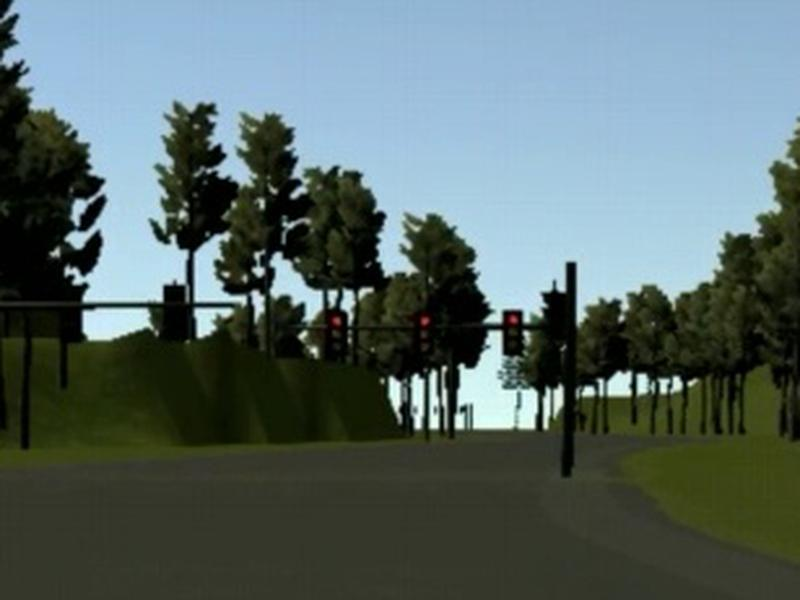Red: (327, 309, 345, 359), (415, 310, 434, 356), (503, 310, 521, 355)
